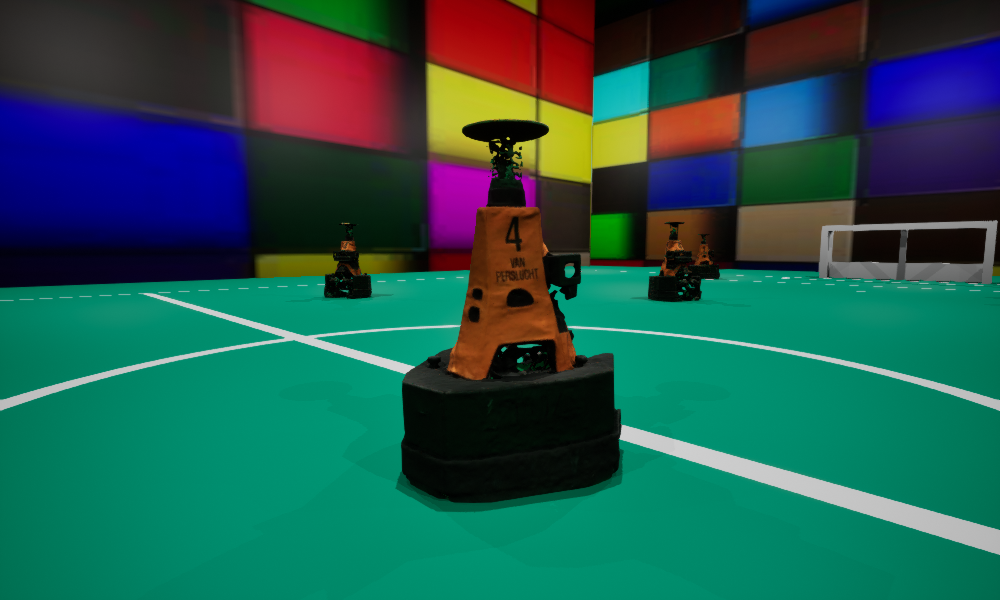o: (401, 119, 621, 502), (648, 222, 701, 301), (324, 223, 371, 297), (688, 234, 719, 278)
